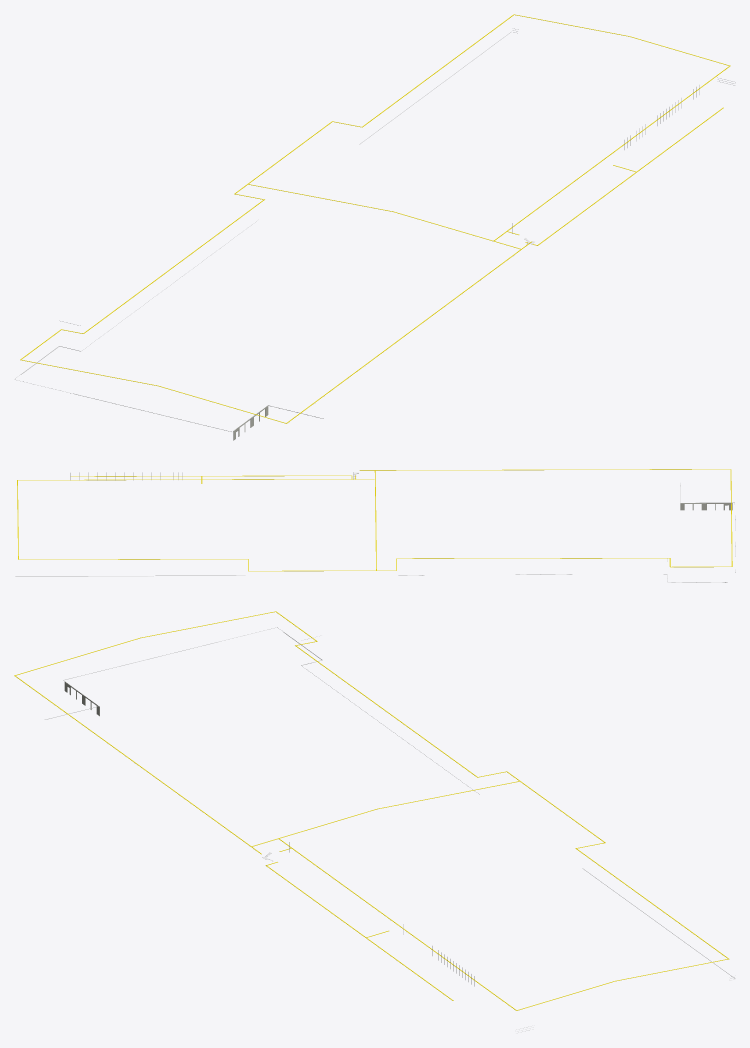
Rendered from pt-108-mantenimiento-mayor-hq-p08.glb.
3 renders of one model, top to bottom at view 1: azimuth 30°, elevation 25°; view 2: azimuth 150°, elevation 25°; view 3: azimuth 270°, elevation 25°, orthographic. The views are drawn at different scales.
Parts seen in each view (by area): view 1: no part large enough to name; view 2: 0i7wqz36PBAeJ1OM65sYlY, 3p2kJQIqX7O9MnTaYWLY6L, 0egUTmUjv3D9cQsxC7bHcN, 27n374YwL2ZB2Eoe6KqO2t, 3p2kJQIqX7O9MnTaYWLY1m, 3$j6EnzOr33RsRBAhWk1ie; view 3: no part large enough to name.
Part boxes in pixels (left/top/right/bottom): 0i7wqz36PBAeJ1OM65sYlY: left=359, top=469, right=730, bottom=470; 3p2kJQIqX7O9MnTaYWLY6L: left=17, top=479, right=374, bottom=480; 0egUTmUjv3D9cQsxC7bHcN: left=71, top=475, right=351, bottom=476; 27n374YwL2ZB2Eoe6KqO2t: left=396, top=558, right=670, bottom=558; 3p2kJQIqX7O9MnTaYWLY1m: left=18, top=559, right=248, bottom=559; 3$j6EnzOr33RsRBAhWk1ie: left=15, top=575, right=245, bottom=576.
Size of the model in its own units: 365 by 16 by 274.
